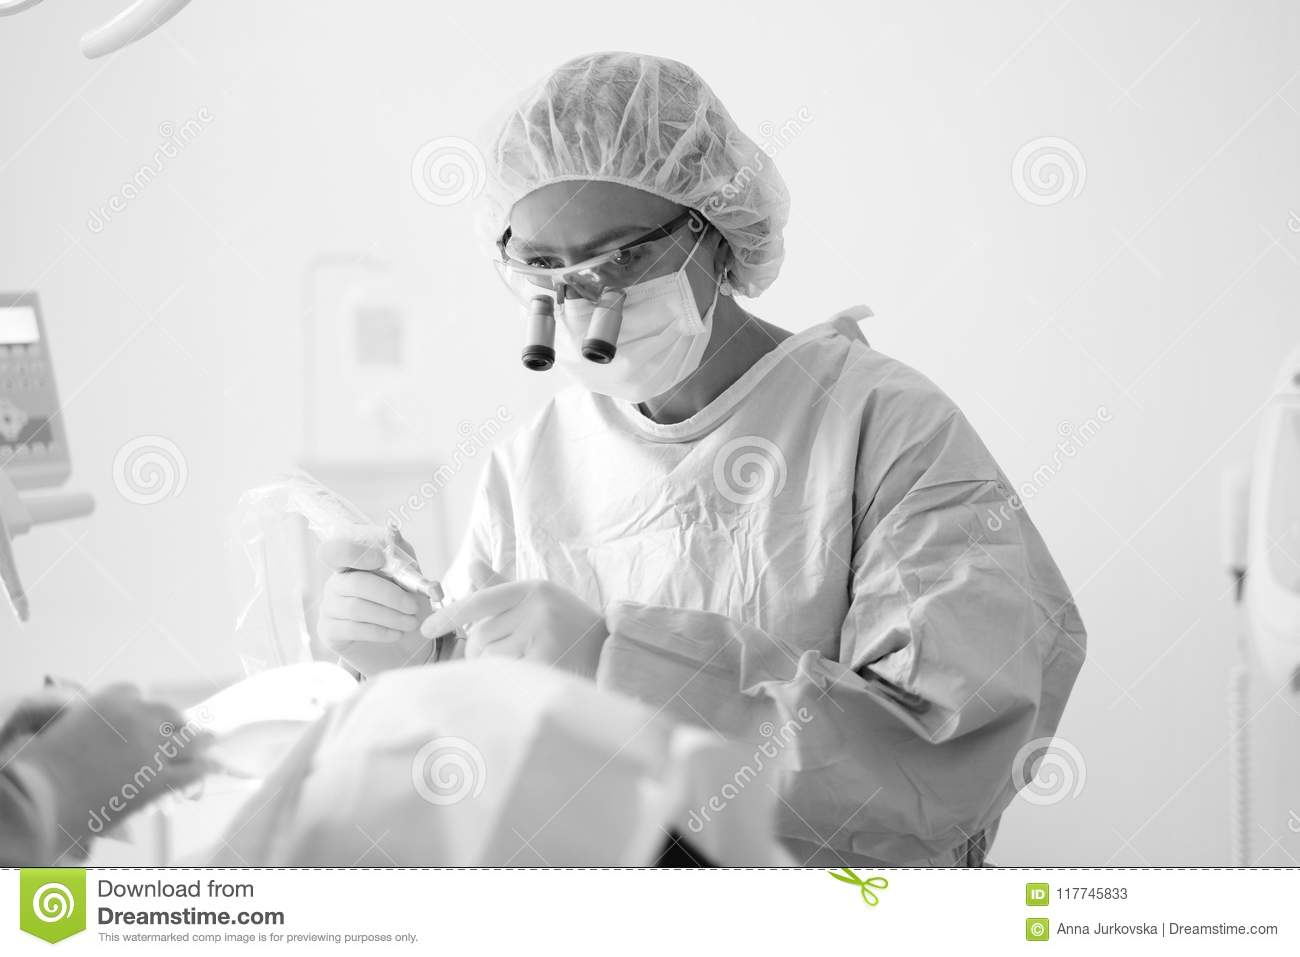mask: (510, 288, 707, 402)
